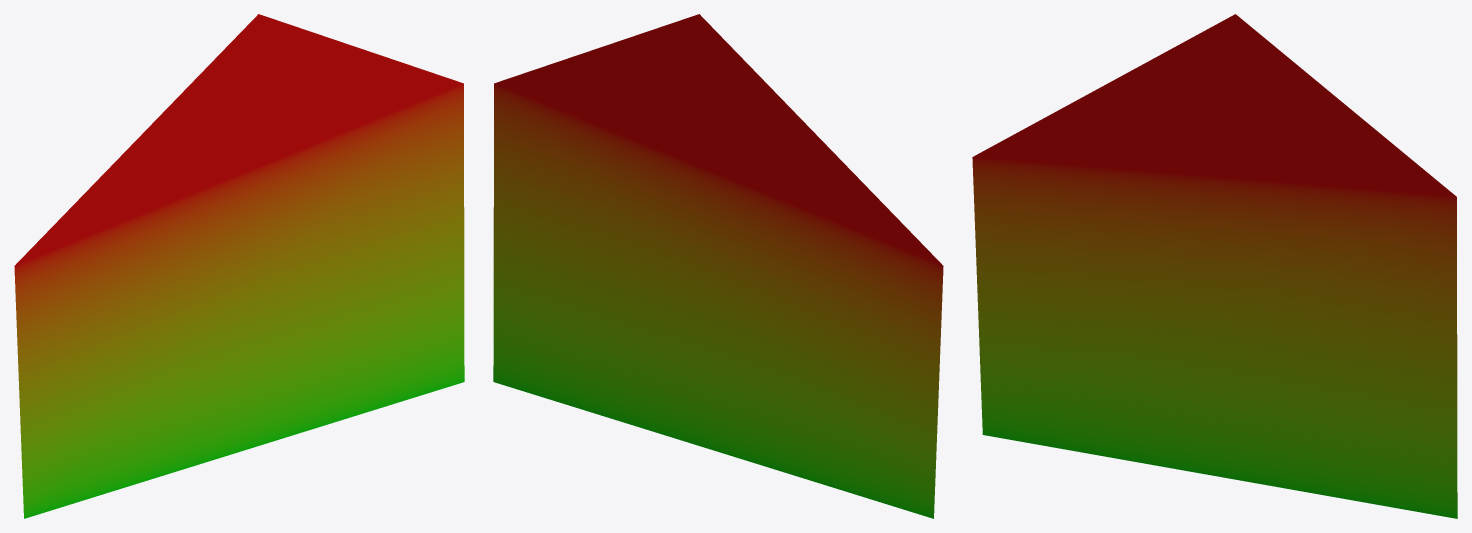
File: Var2_LOD4.fbx
3 views of the same model, side by side, from view 1: azimuth 30°, elevation 25°; view 2: azimuth 150°, elevation 25°; view 3: azimuth 330°, elevation 25° (orthographic). The views are drawn at different scales.
Parts seen in each view (by area): view 1: _ac60_Var2_LOD4; view 2: _ac60_Var2_LOD4; view 3: _ac60_Var2_LOD4.
Boxes of the visible parts, x1,y1,x2,y2 form: _ac60_Var2_LOD4: (14, 14, 464, 518); _ac60_Var2_LOD4: (493, 14, 943, 518); _ac60_Var2_LOD4: (972, 14, 1457, 518).
Size of the model in its own units: 46.49 by 44.2 by 5.96e-06.
